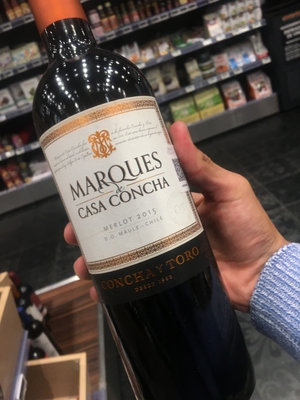marques de casa concha merlot: (29, 4, 249, 367)
